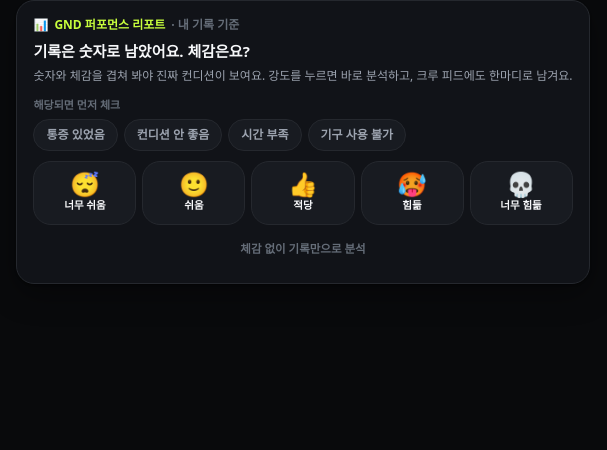
Test: CoachCard › 체감을 아직 안 받았으면 이모지 한 탭이 저장과 분석을 함께 시작한다
The width and height of the screenshot is (607, 450).
Click the button "통증 있었음": click(76, 135) [34,119,118,151]
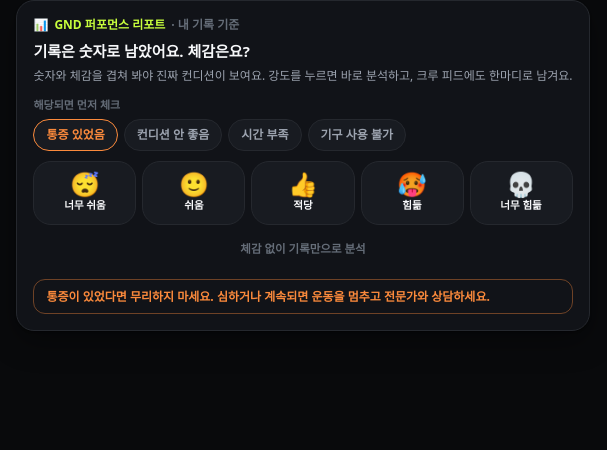
Click the text "힘듦": click(412, 206) [402,198,422,214]
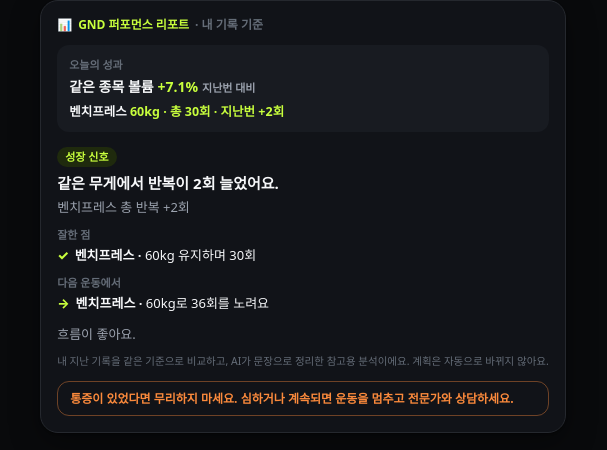
Expected: the text "통증이 있었다면 무리하지 마세요. 심하거나 계속되면 운동을 멈추고 전문가와 상담하세요." is shown, [57,381,549,416]
Expected: the text "같은 무게에서 반복이 2회 늘었어요." is shown, [57,173,279,193]
